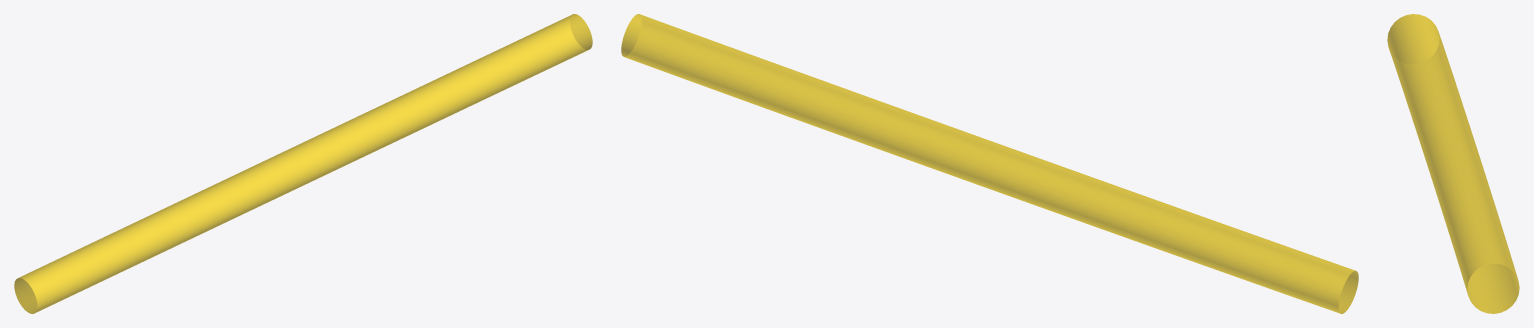
The model's file is Event_31209032_track_37.fbx.
3 views of the same model, side by side, from view 1: azimuth 30°, elevation 25°; view 2: azimuth 150°, elevation 25°; view 3: azimuth 270°, elevation 25° (orthographic). The views are drawn at different scales.
Parts seen in each view (by area): view 1: Model; view 2: Model; view 3: Model.
Part boxes in pixels (<box>): Model: <box>14,14,592,313</box>; Model: <box>621,14,1358,313</box>; Model: <box>1387,14,1519,313</box>.
Size of the model in its own units: 0.6968 by 0.1514 by 0.1008.
